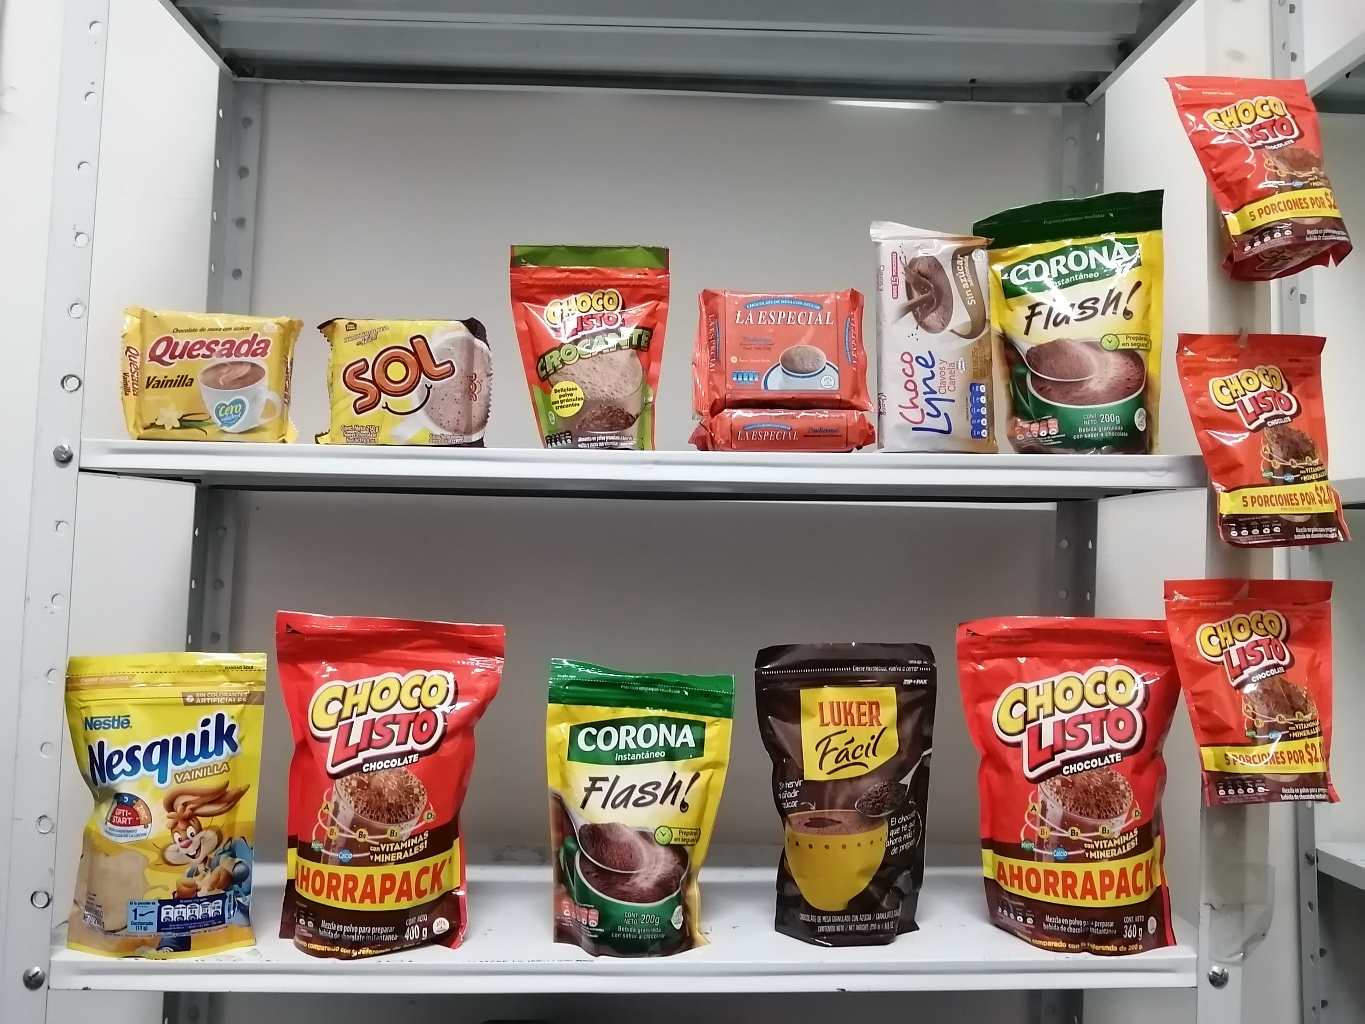COL0170102DYP10000: (492, 230, 683, 454)
COL0170103DYP10000: (1155, 57, 1365, 285)
COL0170103DYP36000: (928, 594, 1203, 965)
COL0170103DYP40000: (264, 597, 518, 972)
COL0170306DYP20000: (49, 618, 290, 957)
